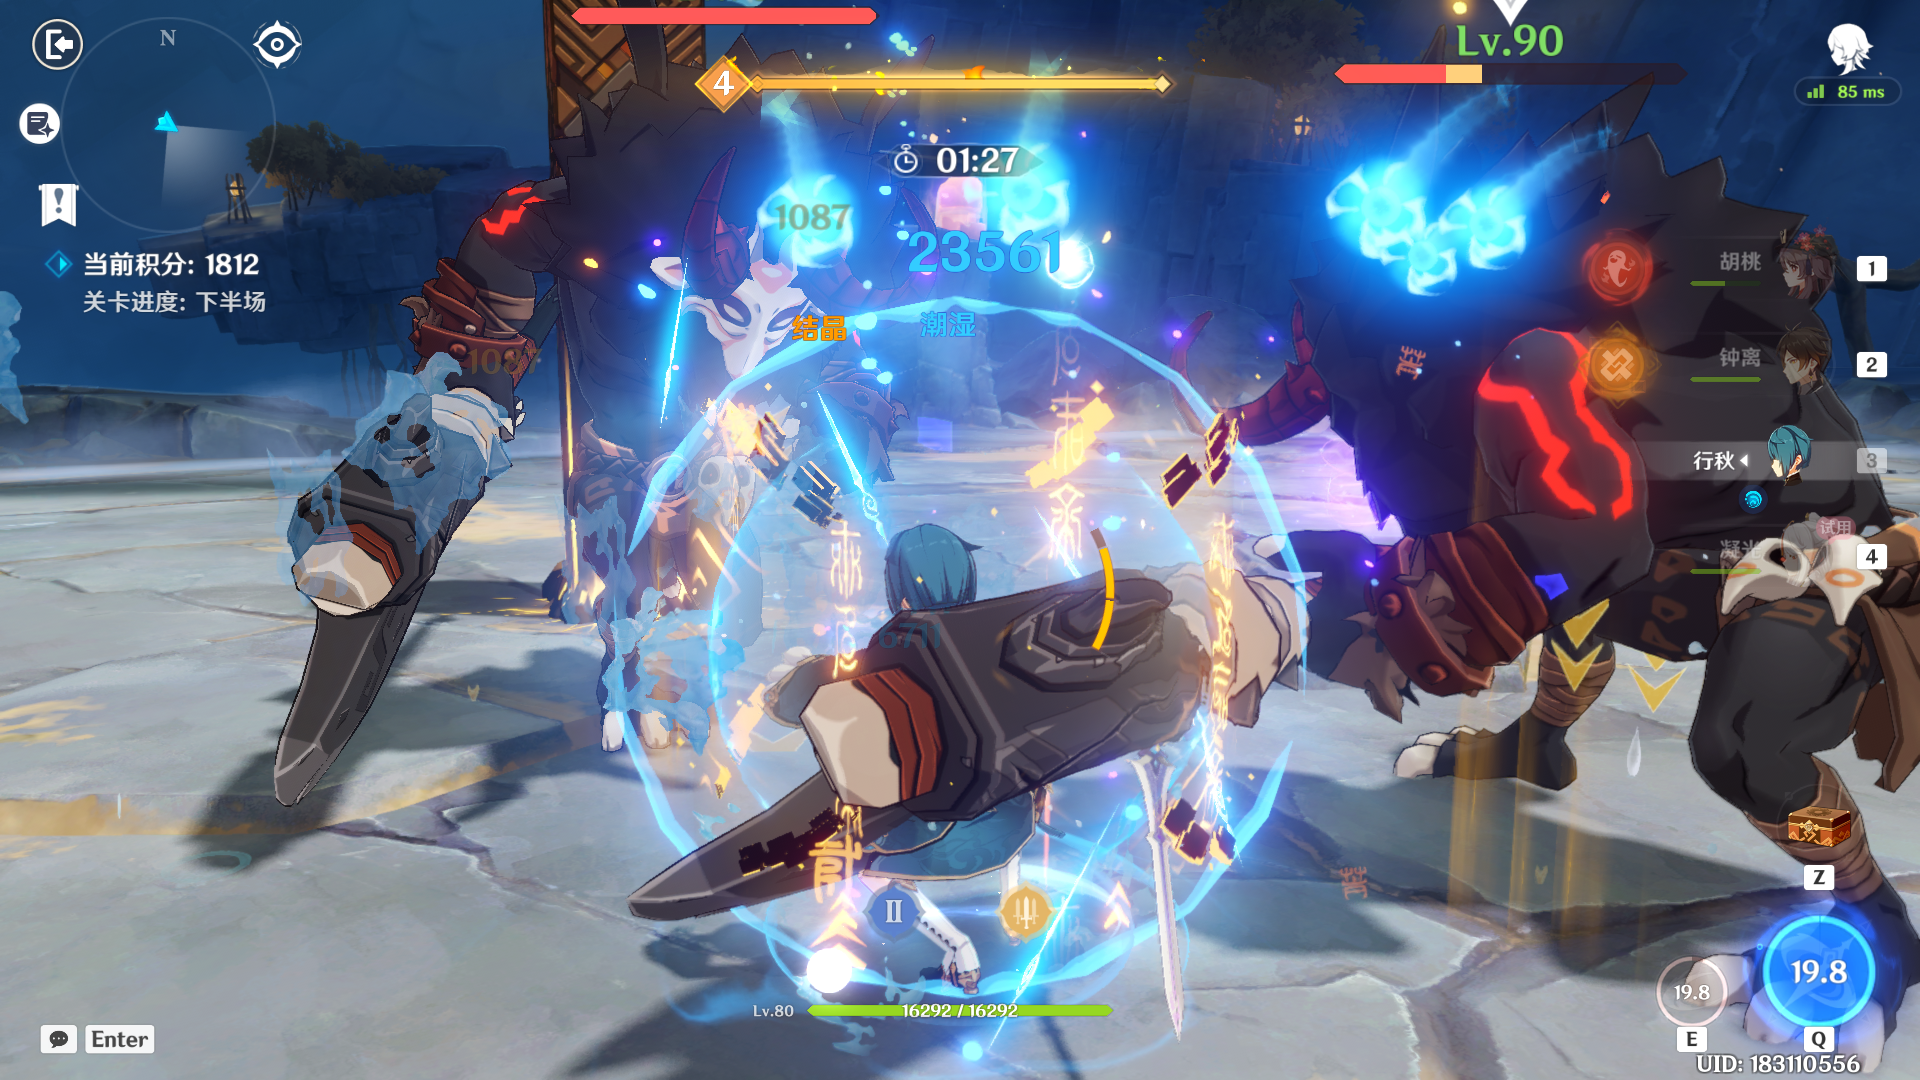bighili: (245, 21, 1065, 864), (1187, 40, 1920, 980)
